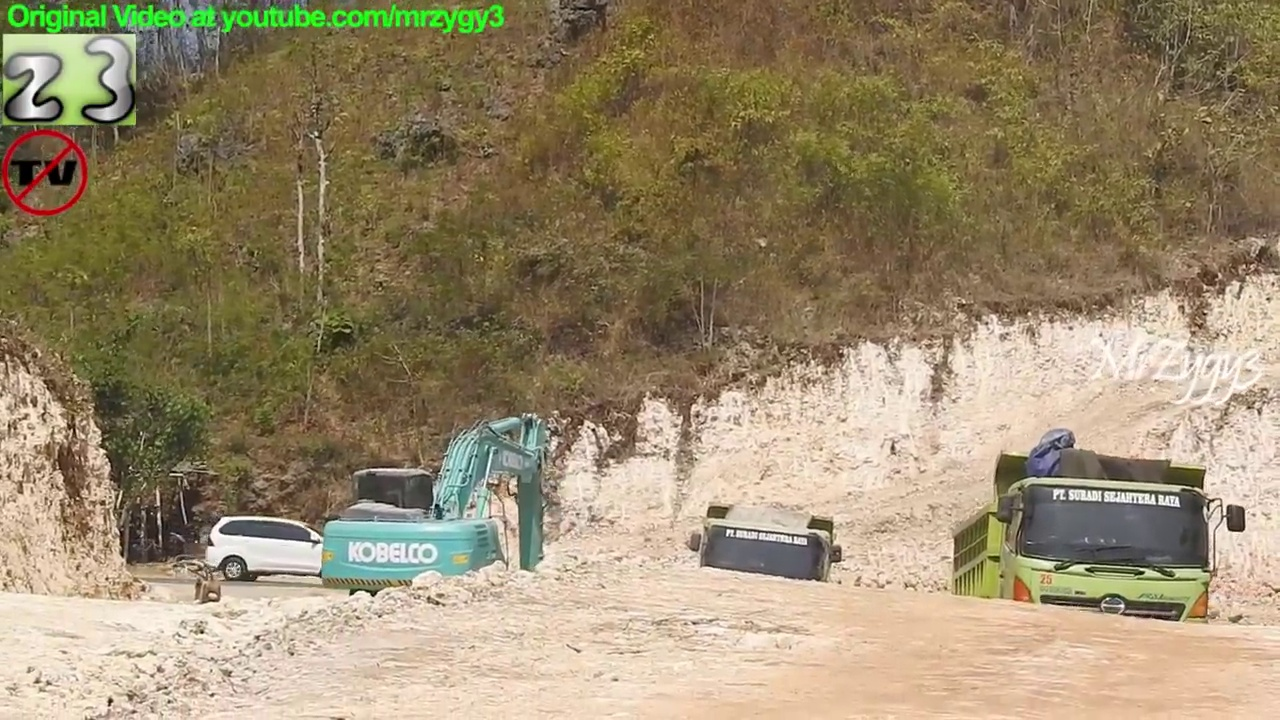excavator: (315, 407, 558, 626)
truck: (946, 444, 1253, 693), (682, 496, 848, 641)
